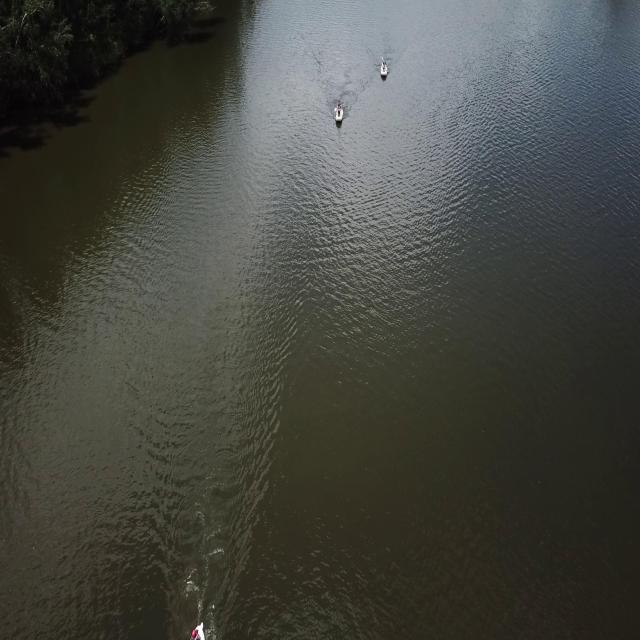kayak: (332, 98, 346, 124), (379, 53, 389, 79)
